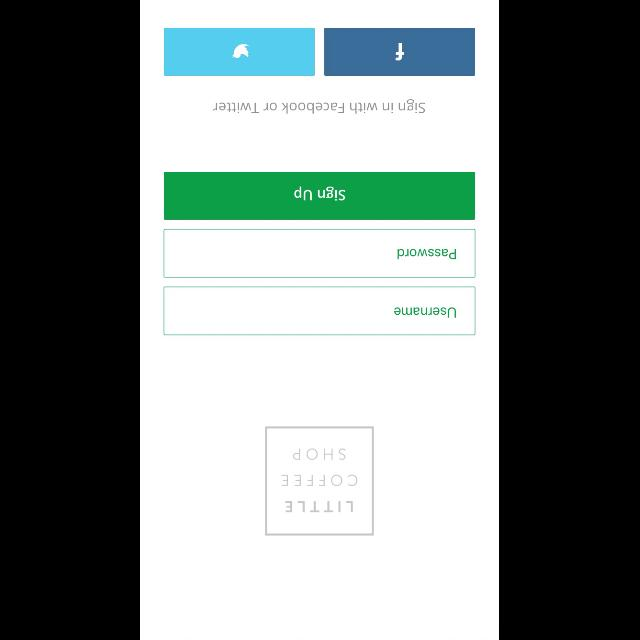image: (266, 426, 374, 536)
input: (164, 286, 476, 336), (164, 228, 476, 278)
text: (212, 100, 426, 114), (398, 248, 457, 260), (395, 307, 457, 317)
textbutton: (164, 172, 476, 220), (324, 28, 476, 76), (164, 28, 316, 76)
